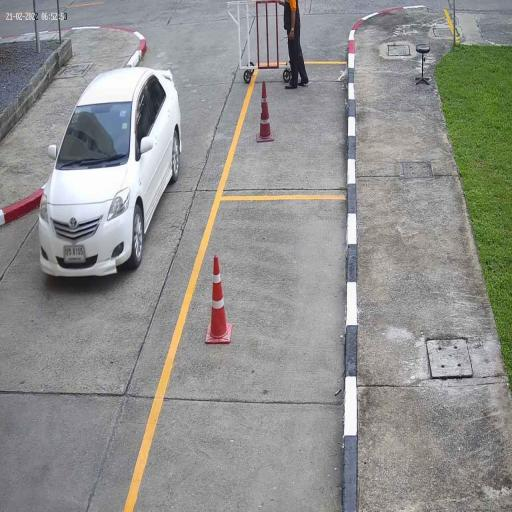car: (38, 66, 182, 282)
